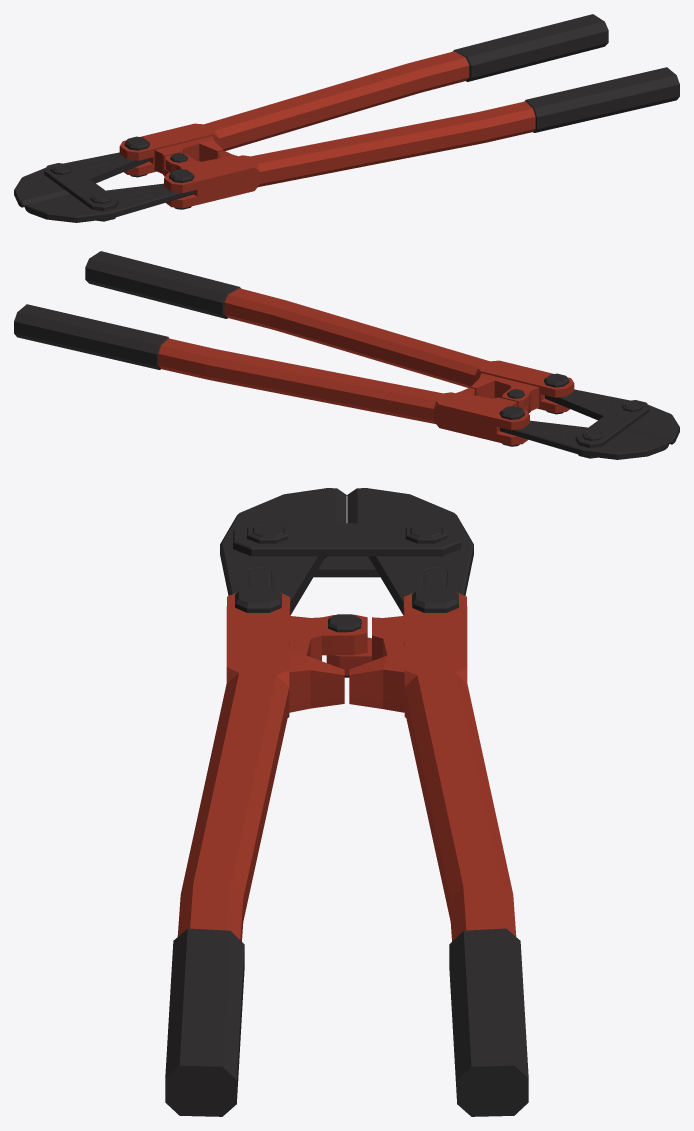
Rendered from kliešte.fbx.
3 renders of one model, top to bottom at view 1: azimuth 30°, elevation 25°; view 2: azimuth 150°, elevation 25°; view 3: azimuth 270°, elevation 25°, orthographic. The views are drawn at different scales.
Parts seen in each view (by area): view 1: Cube; view 2: Cube; view 3: Cube.
Part boxes in pixels (bbox=[...]): Cube: bbox=[14, 14, 679, 222]; Cube: bbox=[14, 251, 679, 459]; Cube: bbox=[165, 488, 528, 1116].
Size of the model in its own units: 513 by 25.33 by 132.
